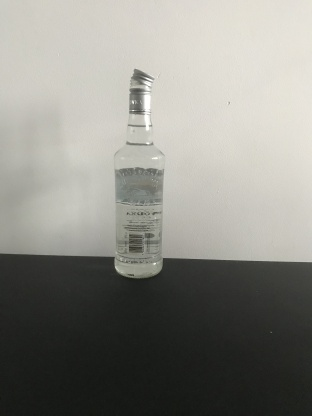nakretka: (127, 66, 155, 114)
